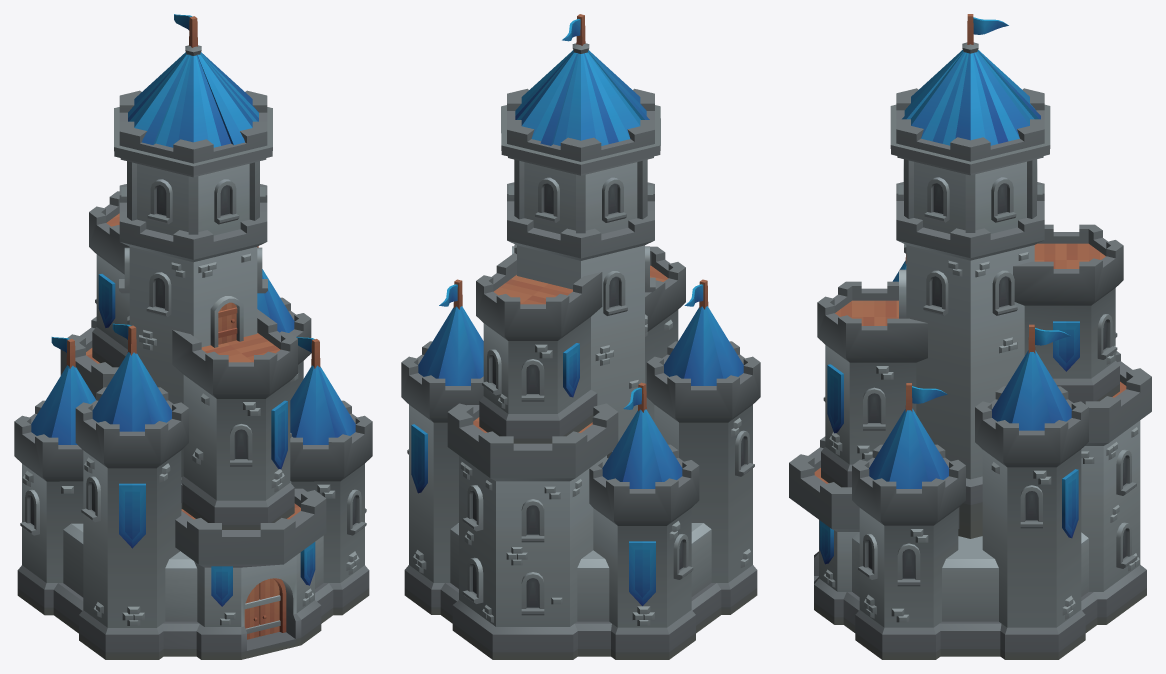
Rendered from kay-castelo.gltf.
The picture shows the model from 3 angles, left to right: view 1: azimuth 30°, elevation 25°; view 2: azimuth 150°, elevation 25°; view 3: azimuth 270°, elevation 25°; orthographic projection.
Visible parts, largest first — view 1: building_castle_blue; view 2: building_castle_blue; view 3: building_castle_blue.
Boxes of the visible parts, x1,y1,x2,y2 form: building_castle_blue: [14, 14, 372, 659]; building_castle_blue: [401, 14, 760, 659]; building_castle_blue: [789, 14, 1151, 659].
Size of the model in its own units: 9.88 by 19.9 by 11.28.
1 material, 1 textured.
